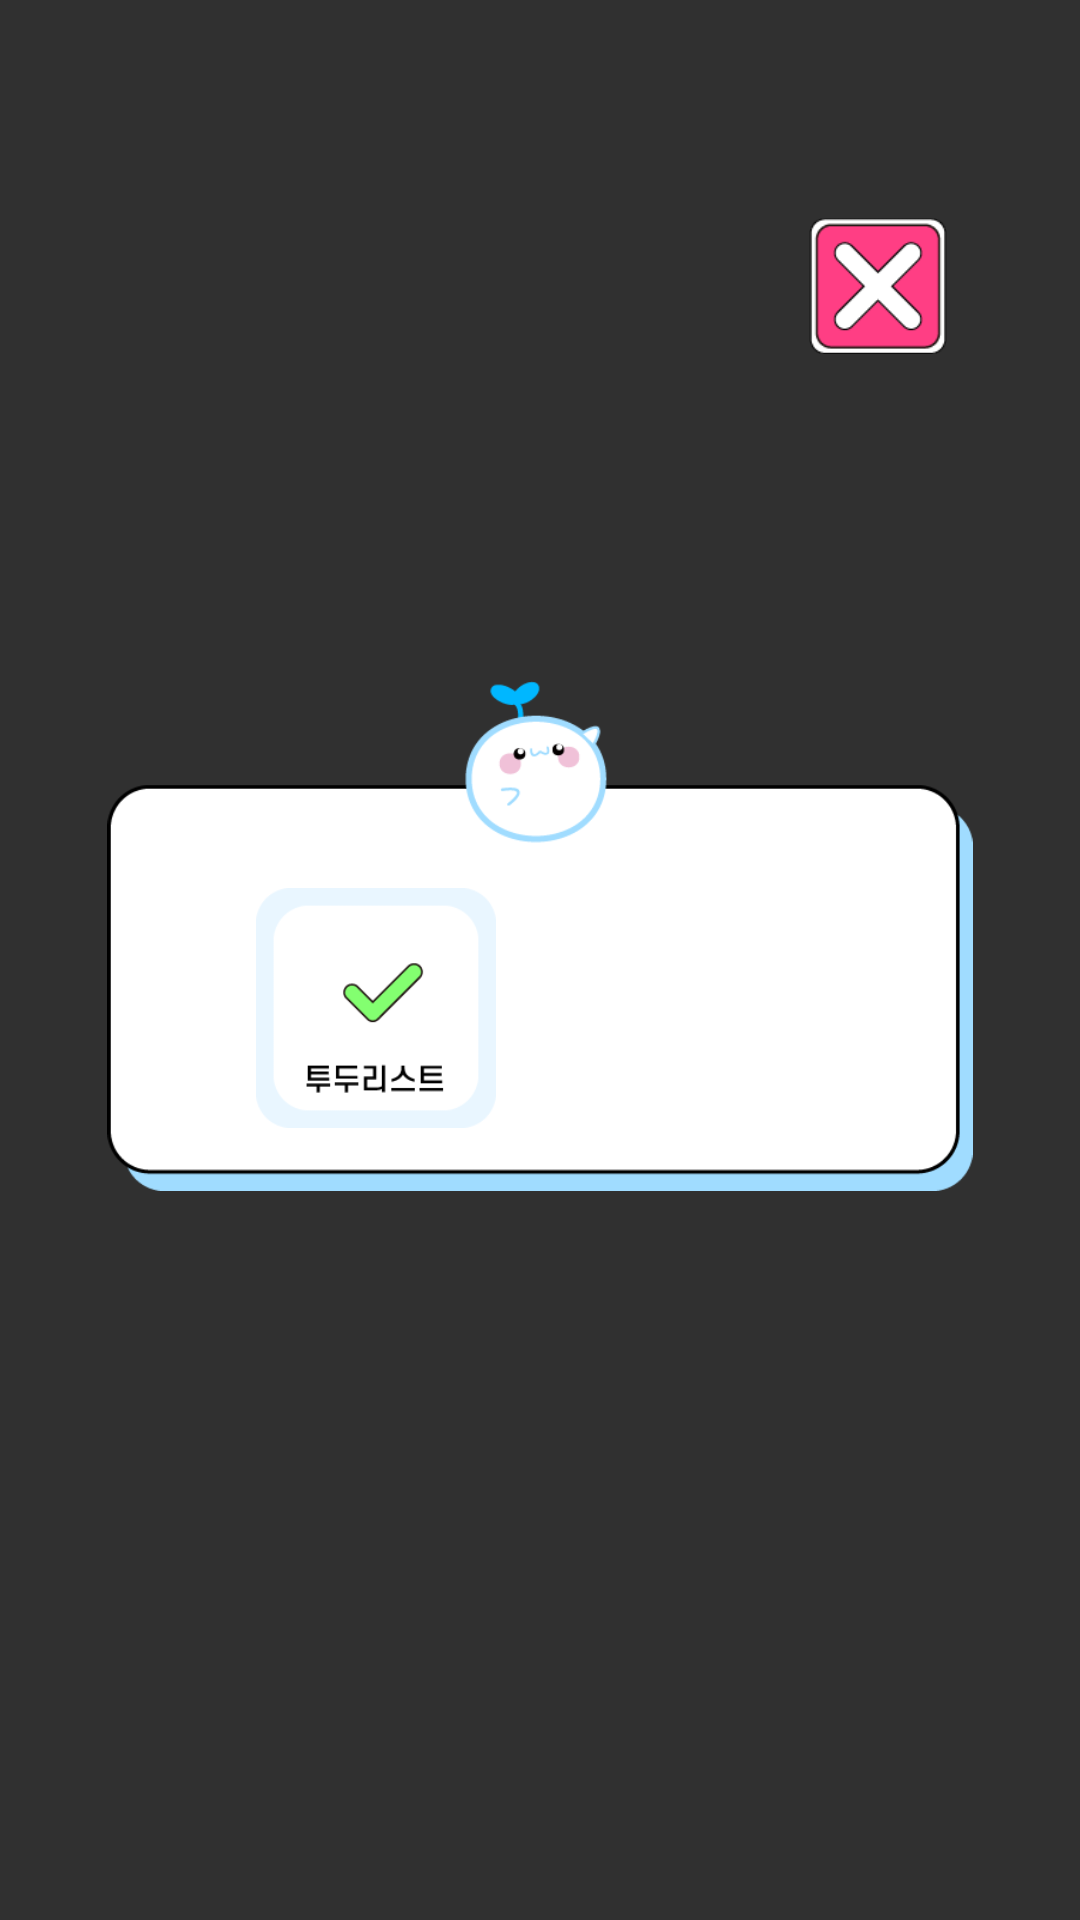

Icon click points for this 1080w x 1920h phone screenshot, format (x,y):
exit: (878,286)
